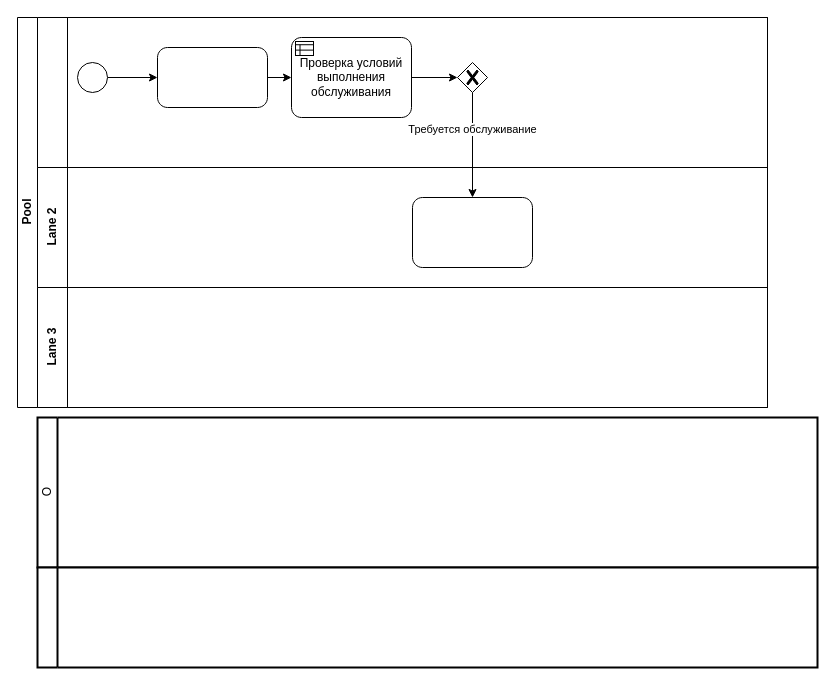
This 836x686 diagram has some shape labels left out. Each missing label, with the box of its shape:
Выполнение записи в Журнале показателей оборудования: (156, 46, 268, 108)
Механик оборудования: (36, 16, 768, 168)
Регистрация заявки на обслуживание в Журнале заявок на обслуживание оборудования: (412, 196, 532, 268)
